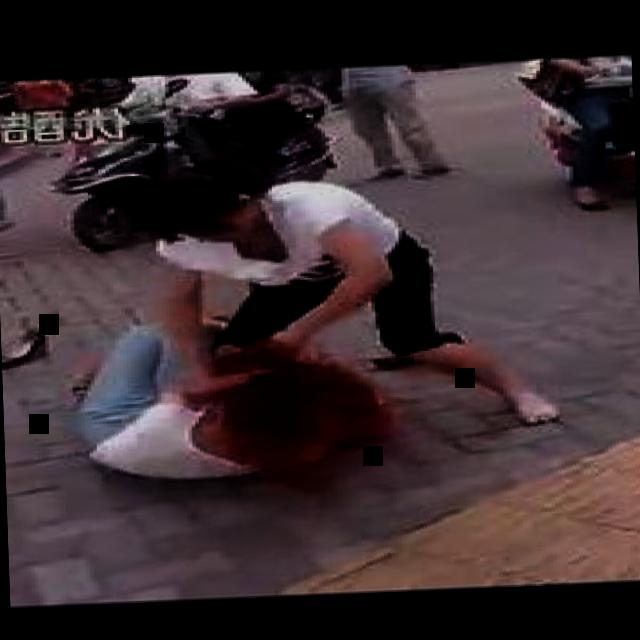Fall-Detected: (48, 306, 422, 495)
